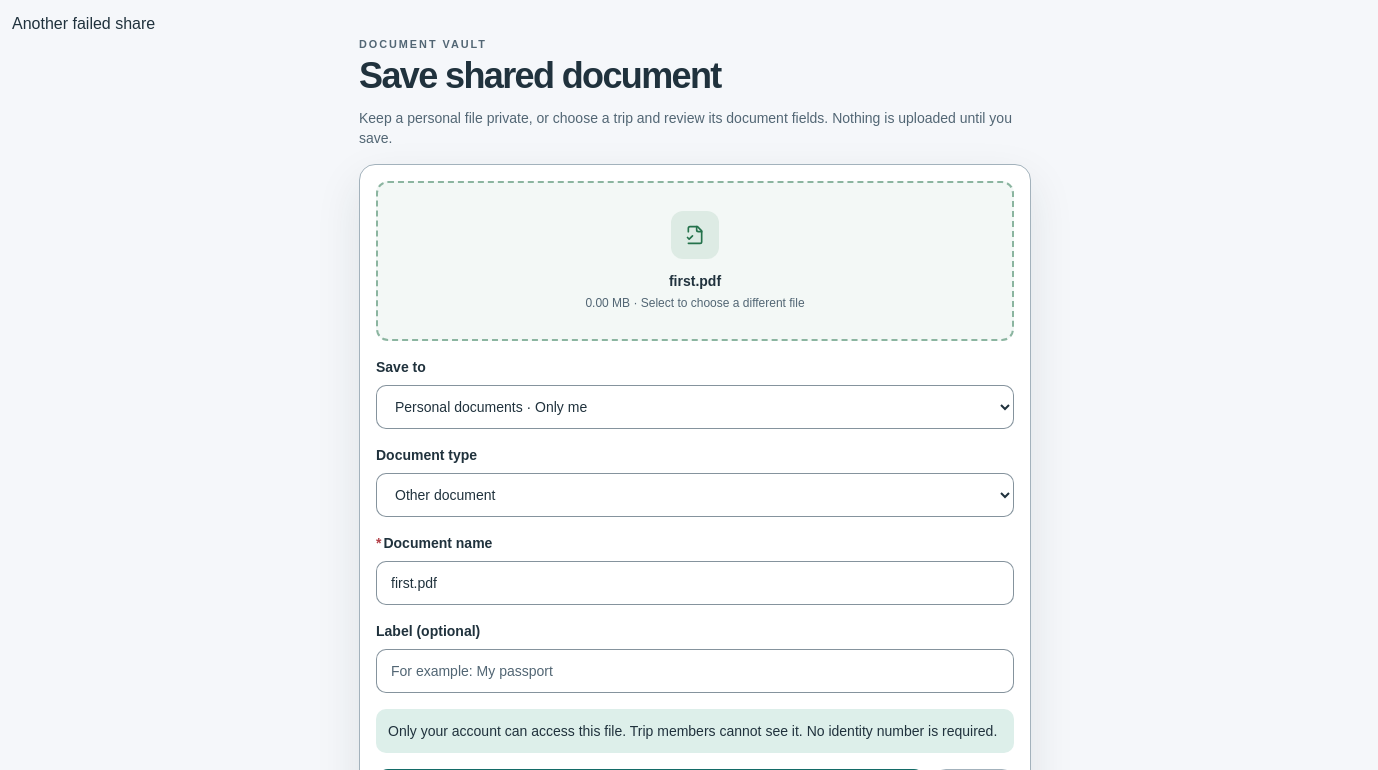
Test: does not keep a previous attachment when a later share fails in the same screen
The width and height of the screenshot is (1378, 770).
Expected: the button "first.pdf 0.00 MB · Select to choose a different file" is shown, [376, 181, 1014, 341]
Click the link "Another failed share".
click(84, 24)  # box [12, 15, 155, 32]
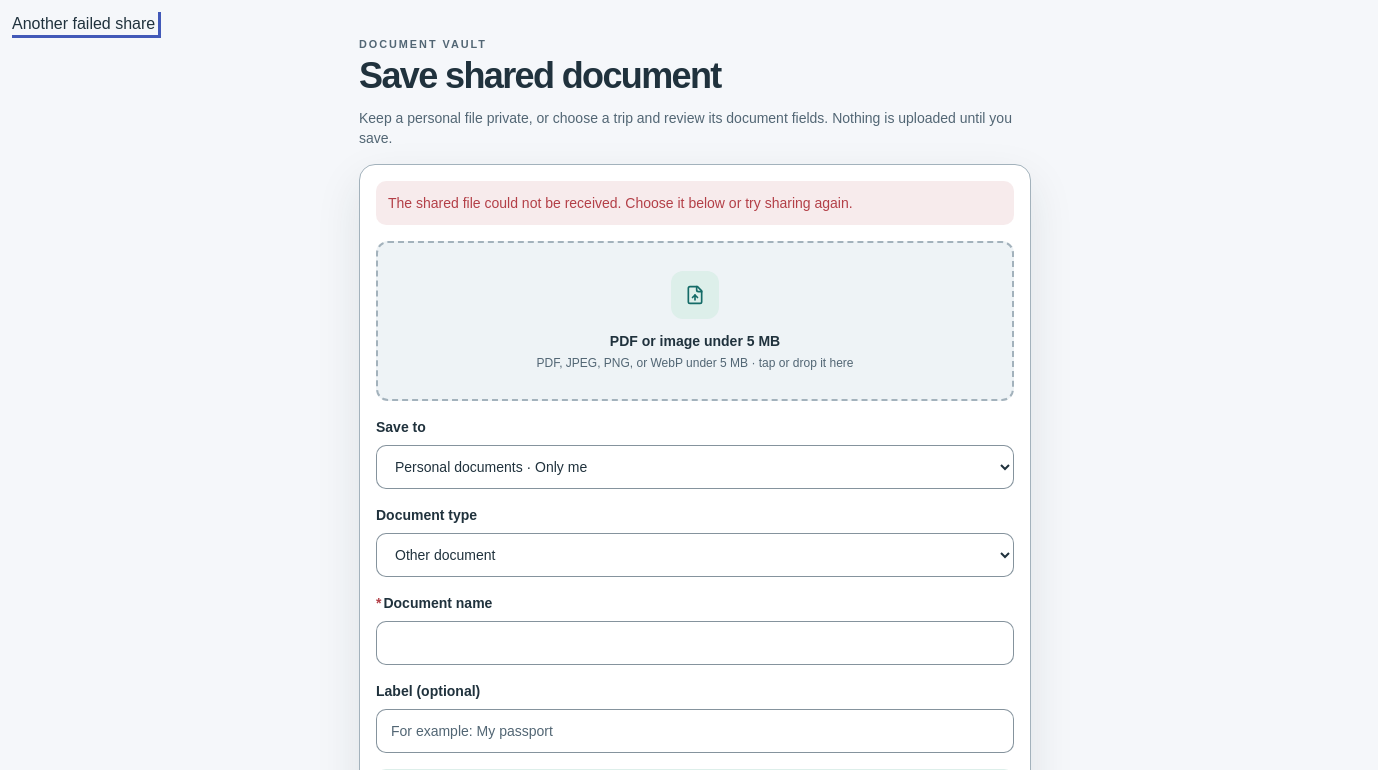
Now the message shows "shared file could not be received", box [388, 195, 853, 211]
Now the button "first.pdf" is gone
Now the field labelled "Document name" is empty, box [376, 621, 1014, 665]
